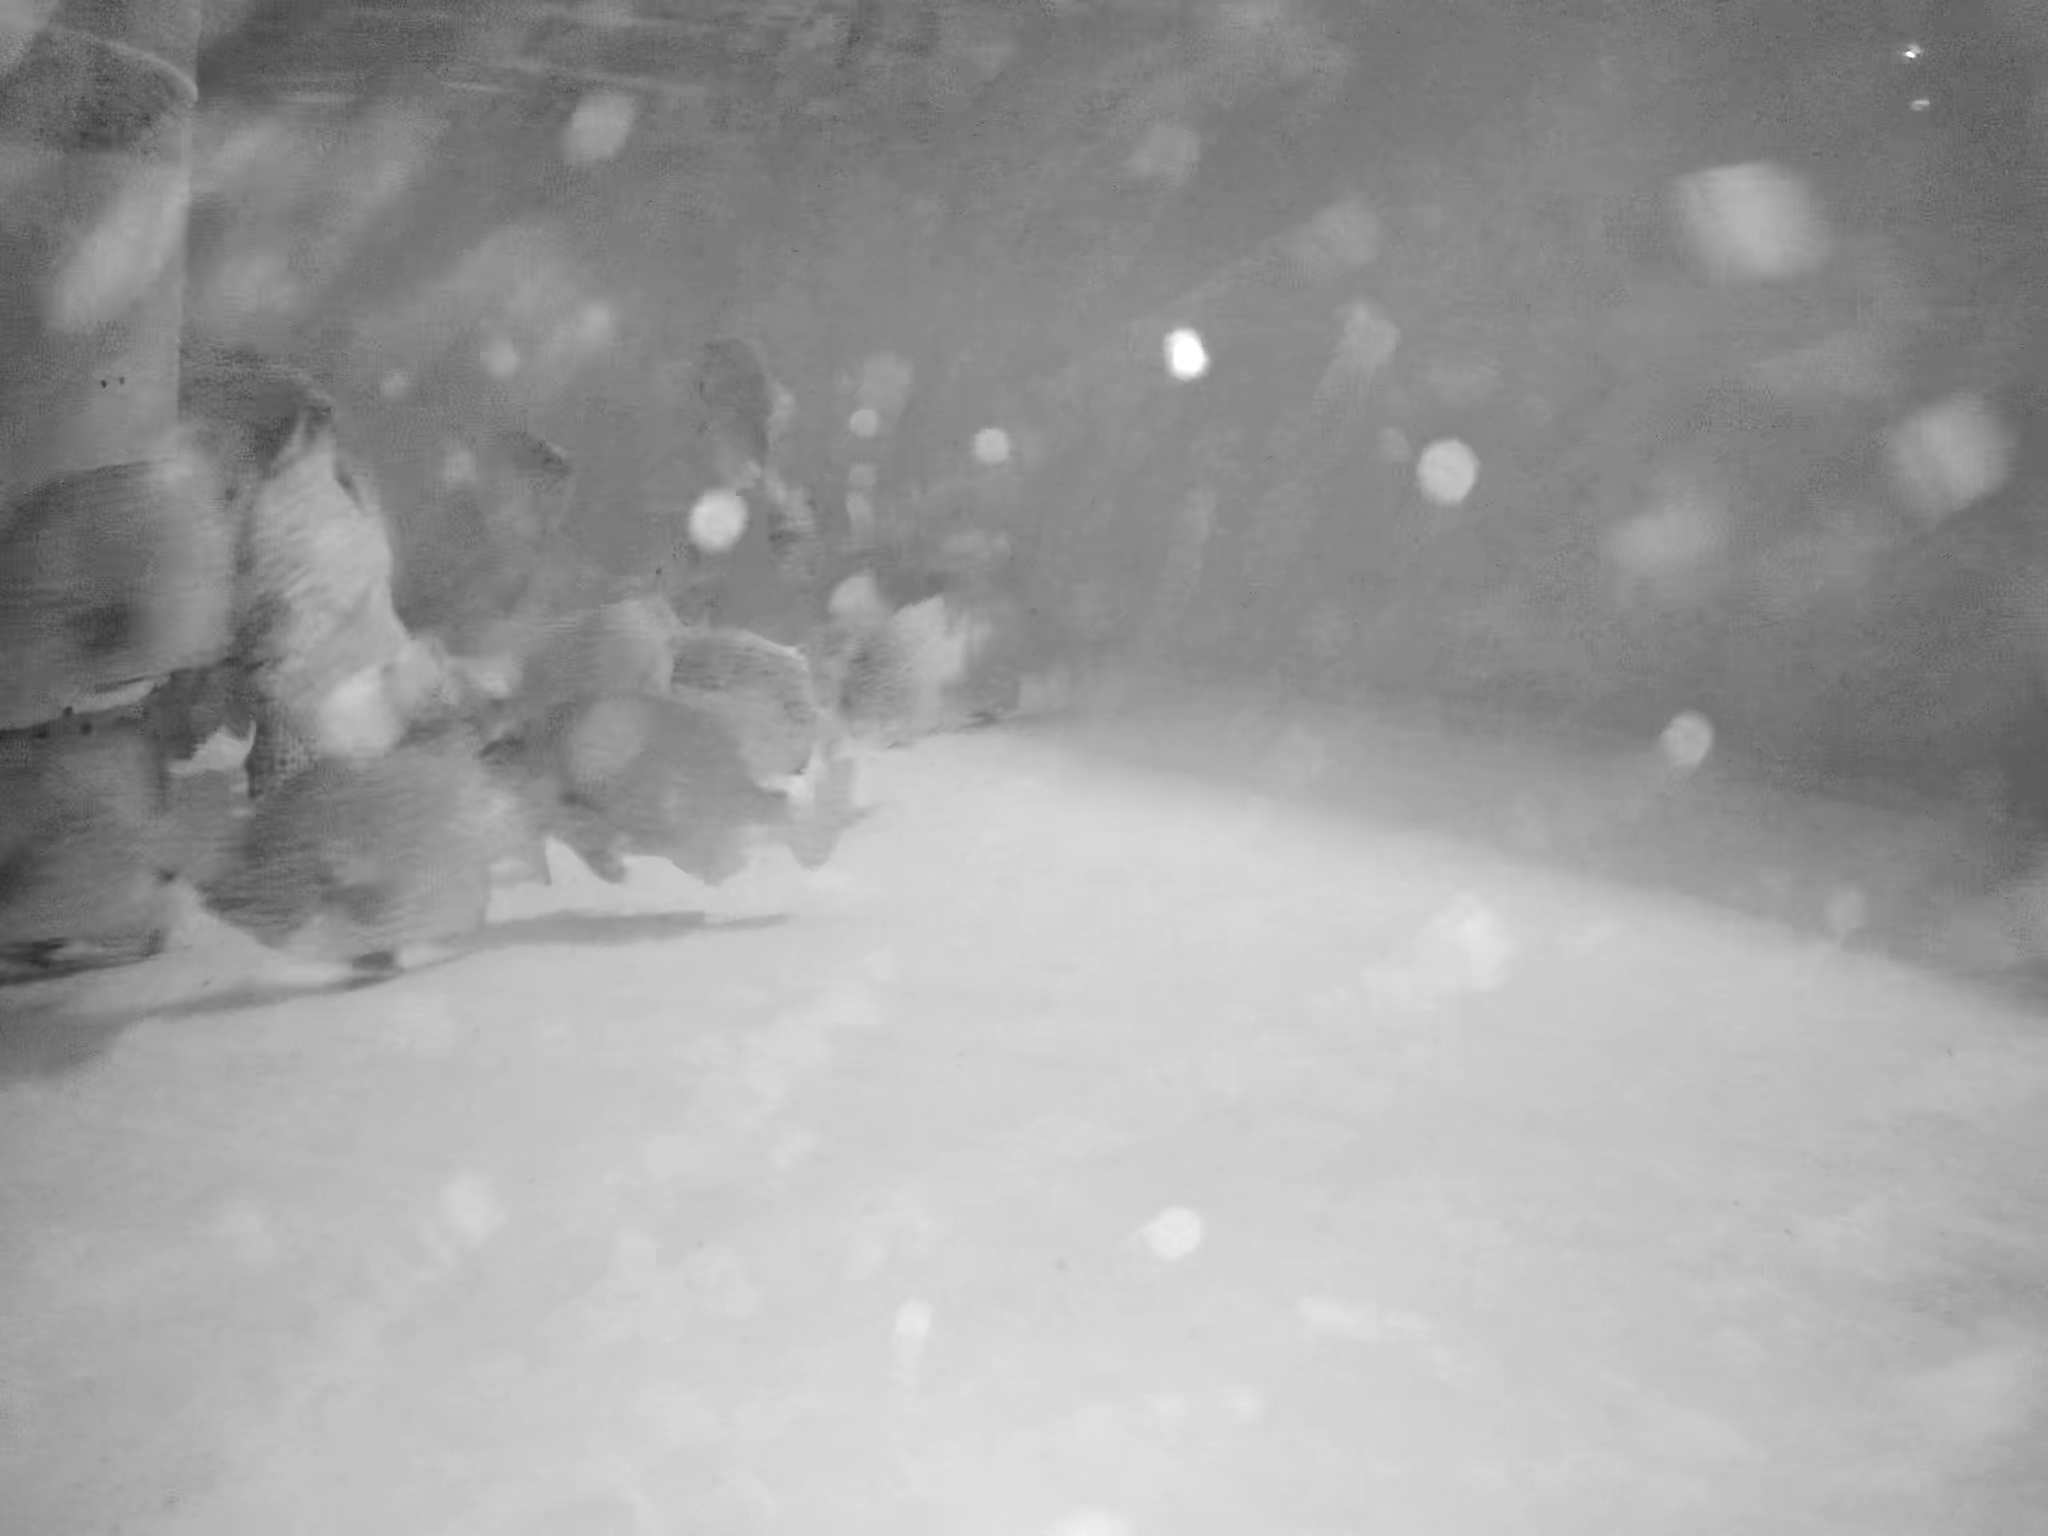fish: (205, 733, 579, 958), (237, 424, 450, 741), (2, 715, 266, 960), (535, 710, 855, 900), (16, 449, 235, 721), (648, 602, 855, 763), (706, 313, 837, 553), (842, 615, 1064, 749), (514, 586, 676, 750), (187, 342, 368, 466), (434, 413, 605, 544)
